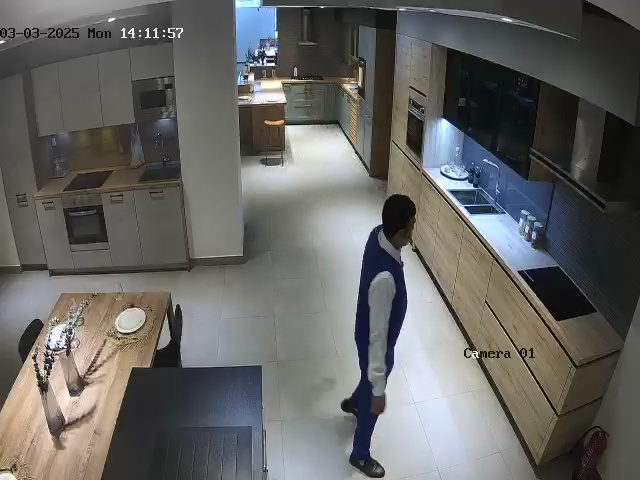employee: (341, 193, 417, 479)
